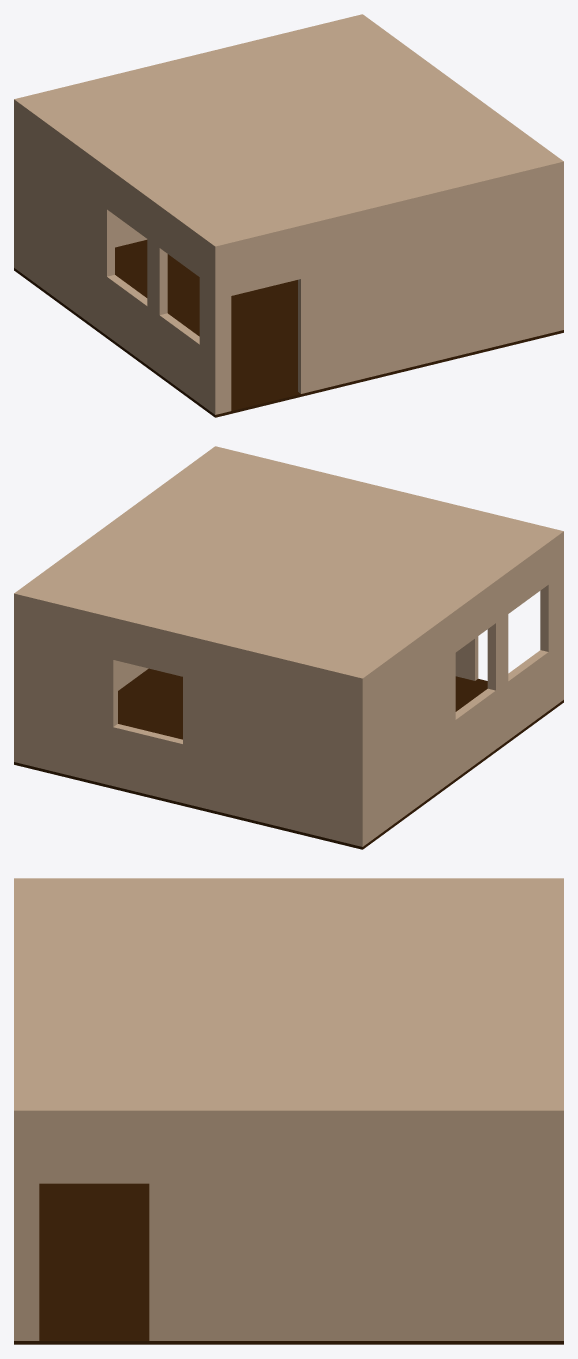
The model's file is Room00.gltf.
3 renders of one model, top to bottom at view 1: azimuth 30°, elevation 25°; view 2: azimuth 150°, elevation 25°; view 3: azimuth 270°, elevation 25°, orthographic. The views are drawn at different scales.
Visible parts, largest first — view 1: roof, wall2, Wall3, floor, wall, Wall4; view 2: roof, wall, Wall3, floor, wall2, Wall4; view 3: roof, Wall4, floor, wall, wall2, Wall3.
Part boxes in pixels (bbox=[...]): roof: bbox=[18, 16, 563, 248]; wall2: bbox=[212, 159, 563, 414]; Wall3: bbox=[14, 97, 223, 413]; floor: bbox=[14, 240, 563, 417]; wall: bbox=[14, 14, 366, 270]; Wall4: bbox=[357, 15, 563, 330]; roof: bbox=[16, 446, 561, 675]; wall: bbox=[14, 590, 367, 846]; Wall3: bbox=[354, 529, 563, 845]; floor: bbox=[14, 668, 563, 849]; wall2: bbox=[212, 446, 563, 700]; Wall4: bbox=[14, 446, 220, 762]; roof: bbox=[14, 878, 559, 1114]; Wall4: bbox=[14, 1107, 563, 1340]; floor: bbox=[14, 1183, 563, 1344]; wall: bbox=[551, 878, 563, 1340]; wall2: bbox=[14, 878, 22, 1340]; Wall3: bbox=[14, 878, 563, 883].
Bounding box in the file's own units: 130 × 61 × 130.
